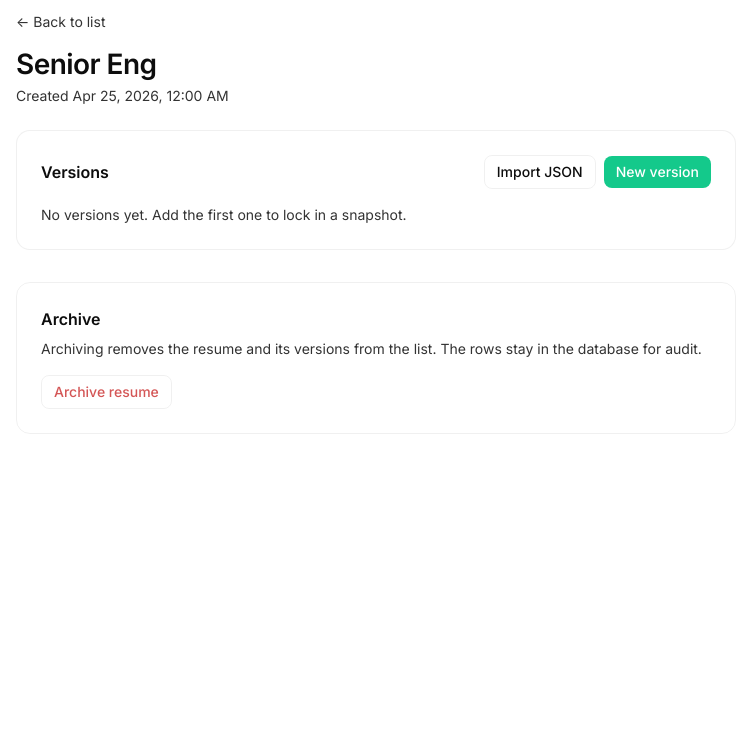
Test: ResumeDetail › shows an inline error when document is not valid JSON
Click the button with test id "resume-detail-new-version-toggle".
click(657, 172)  # box [604,156,711,188]
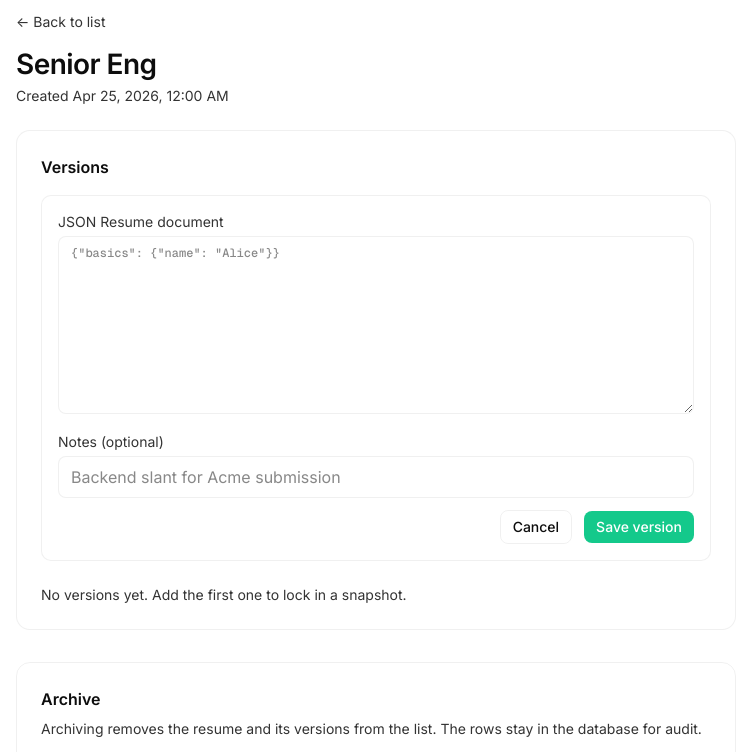
Type "not json" into the text box with test id "resume-detail-new-version-document".
click(376, 325); type("not json")  # box [58,236,694,414]
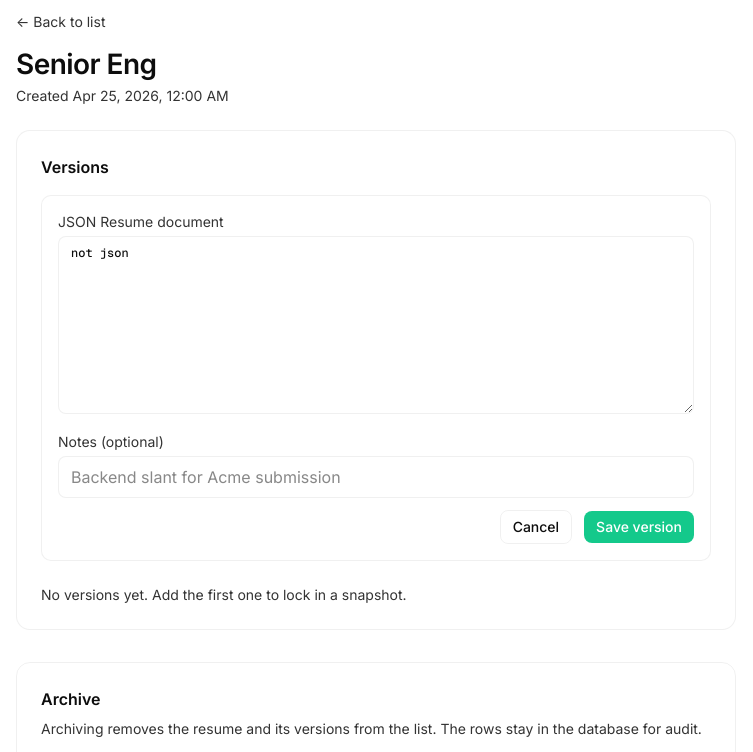
Submit the form with test id "resume-detail-new-version-form", box [41,195,711,561]
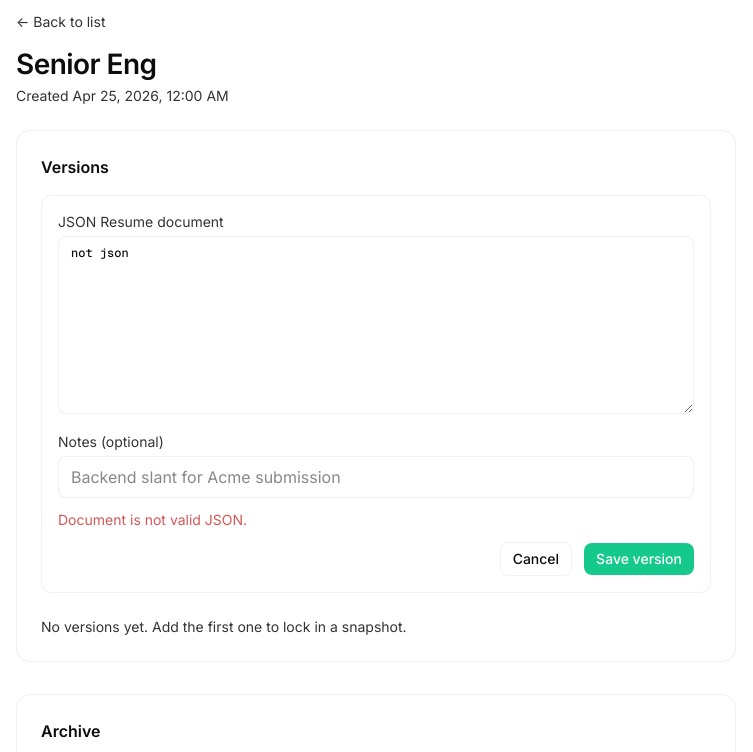
Now the message with test id "resume-detail-new-version-error" shows "not valid JSON", box [58,511,247,528]
